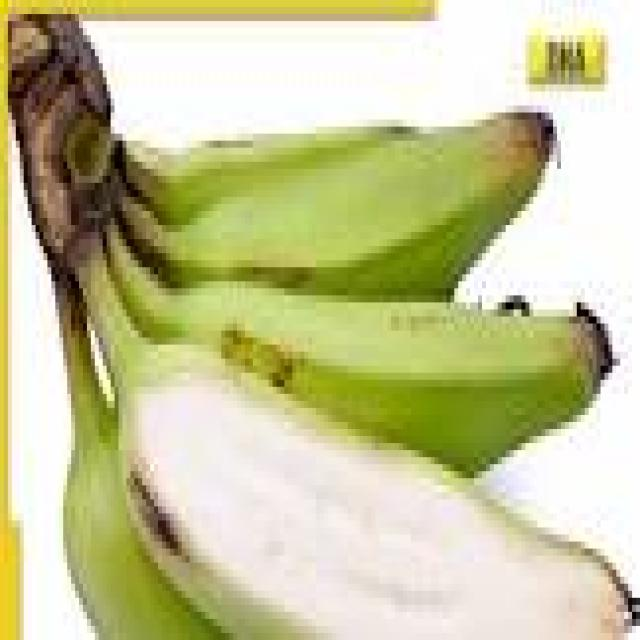banana: (76, 240, 632, 639), (107, 226, 612, 471), (119, 113, 557, 295), (56, 282, 229, 639), (119, 127, 410, 225)
